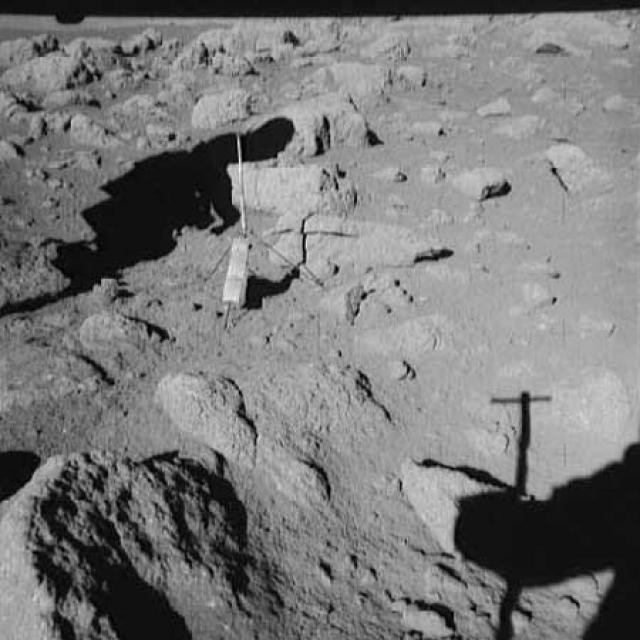artifact: (202, 127, 324, 313)
rock: (0, 443, 258, 639), (399, 453, 527, 562), (258, 210, 450, 274), (159, 368, 264, 464), (223, 153, 361, 216), (231, 98, 372, 151), (0, 55, 100, 112), (281, 60, 394, 102), (332, 276, 412, 318), (67, 116, 130, 156), (523, 24, 590, 60), (458, 162, 512, 204), (113, 85, 173, 119), (190, 88, 250, 122), (0, 27, 59, 55), (209, 48, 257, 82), (395, 62, 424, 92), (420, 158, 450, 185), (375, 162, 408, 186)
